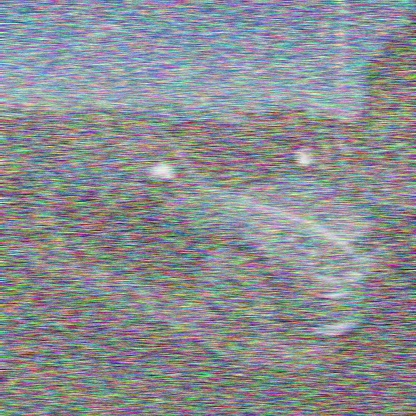Vehicle: (25, 101, 388, 362)
